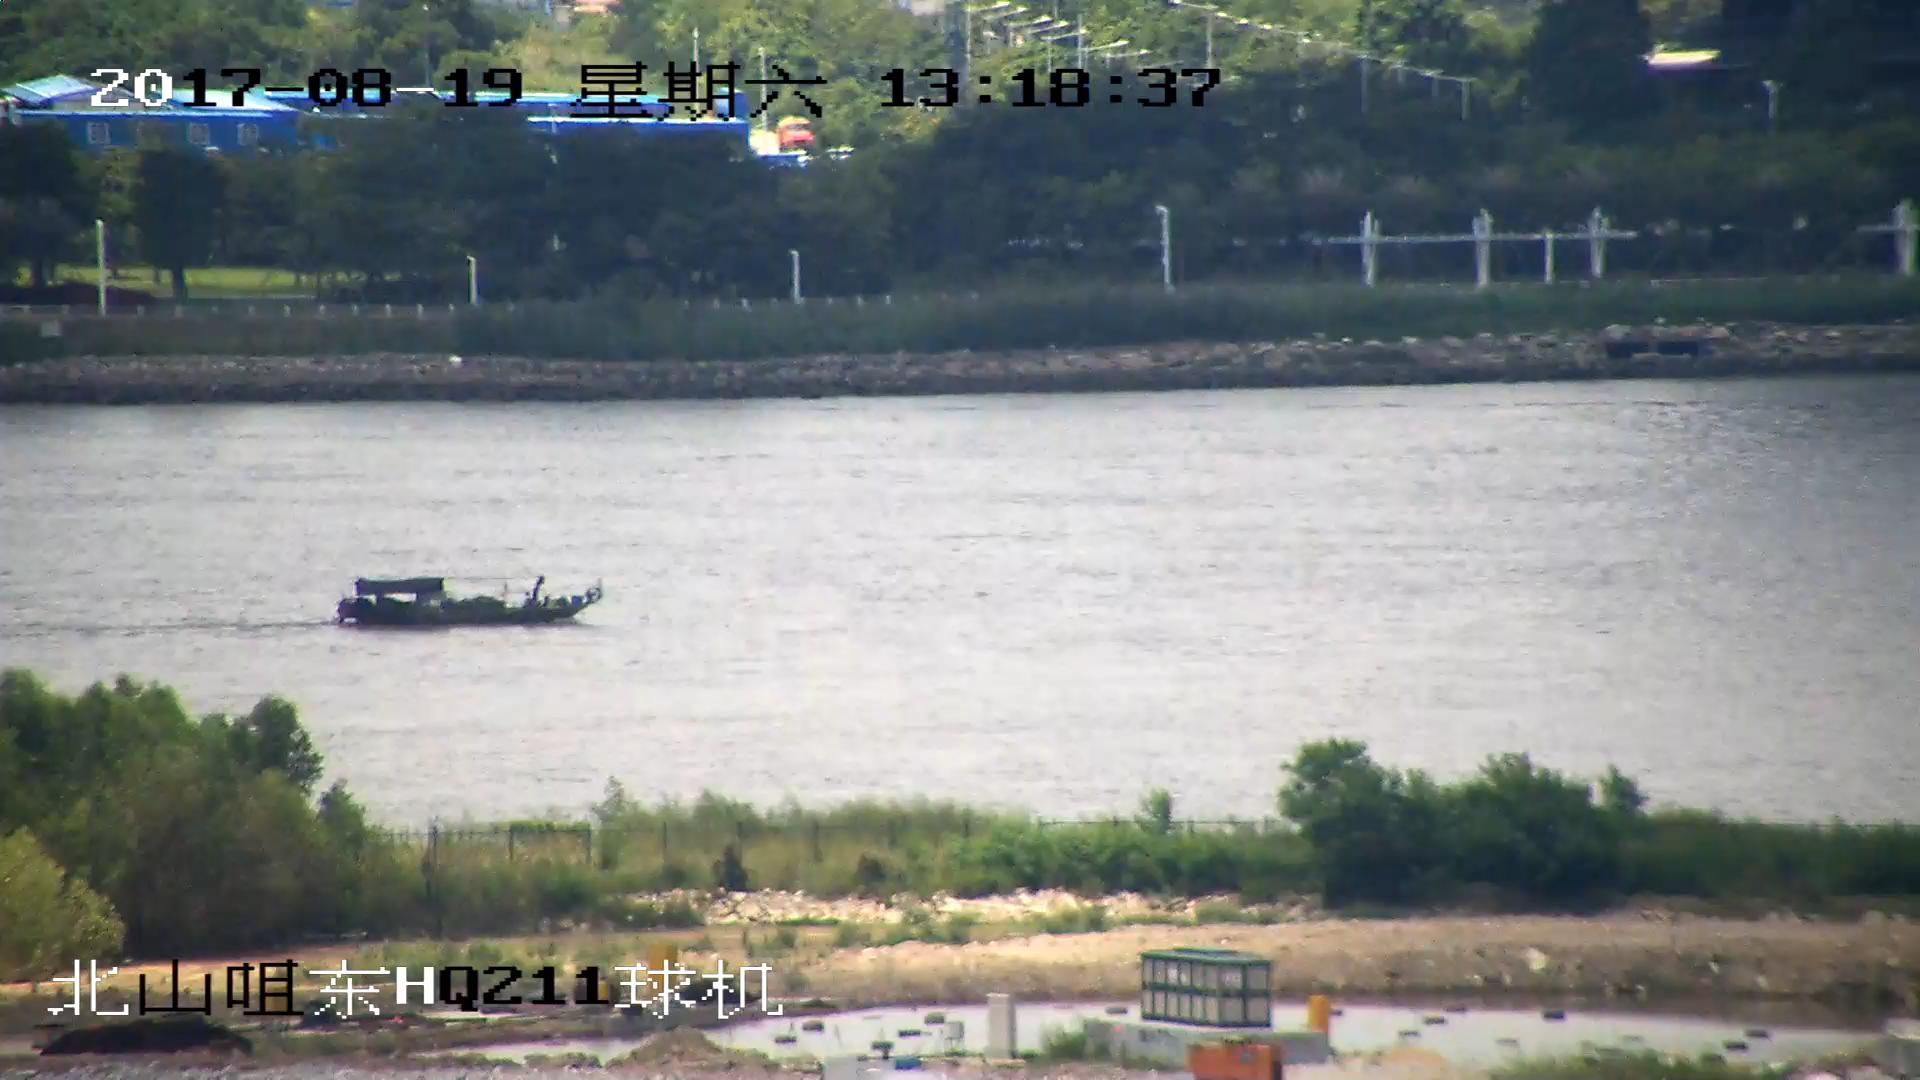fishing boat: (335, 574, 601, 629)
